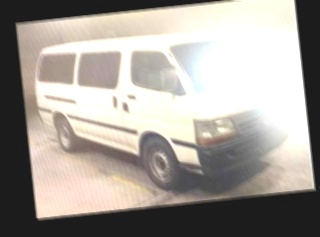van: (32, 22, 302, 201)
